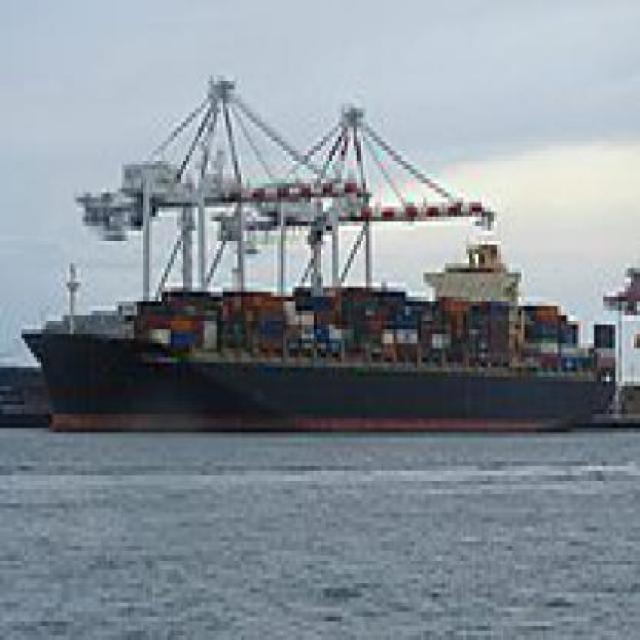container: (26, 67, 626, 467)
